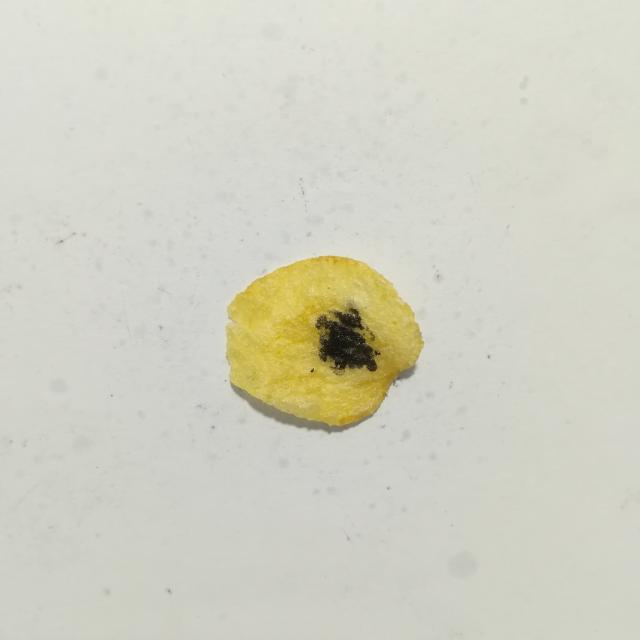chip: (226, 256, 424, 426)
damaged: (315, 308, 380, 371)
semi-damaged: (368, 331, 376, 341), (310, 368, 314, 373)
